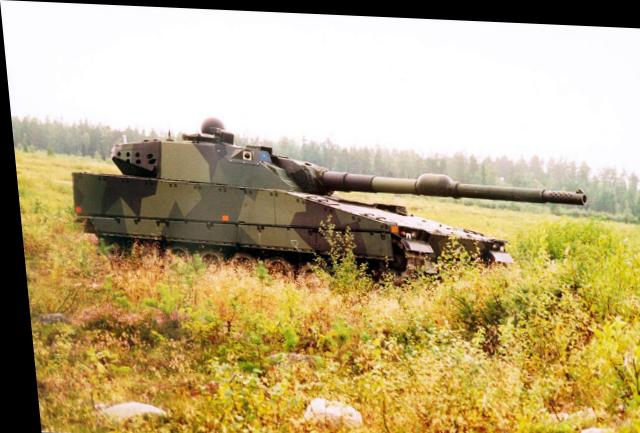tank: (60, 116, 511, 286)
